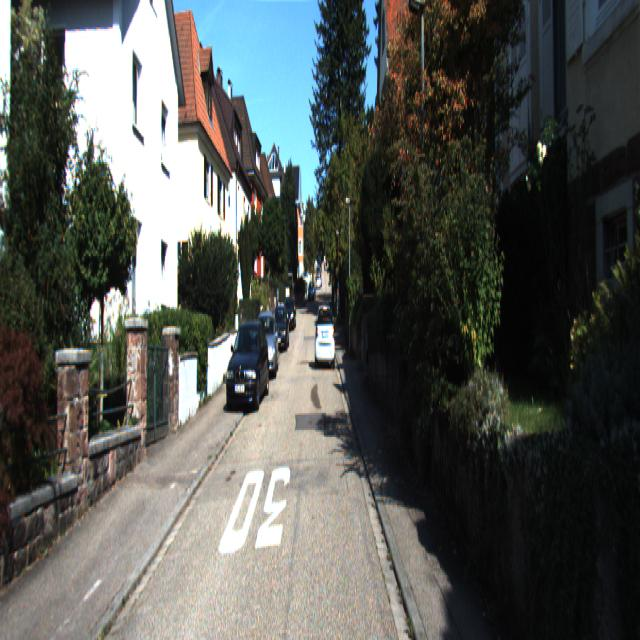Car: (224, 317, 271, 413), (253, 310, 281, 380), (315, 302, 335, 370), (270, 304, 290, 350), (283, 296, 297, 330)
